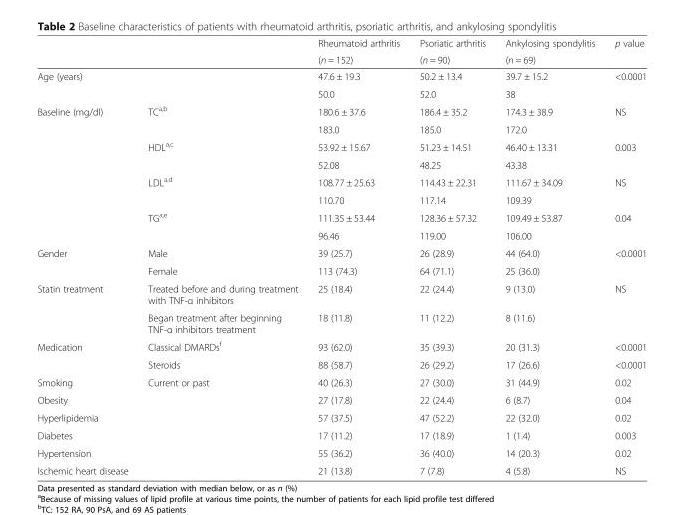table: (36, 37, 646, 476)
table column: (137, 37, 307, 476), (494, 37, 604, 476), (307, 37, 409, 476), (36, 37, 137, 476), (409, 37, 494, 476), (604, 37, 646, 476)
table column header: (36, 37, 646, 67)
table row: (36, 279, 646, 308), (36, 308, 646, 337), (36, 101, 646, 120), (36, 172, 646, 191), (36, 207, 646, 226), (36, 137, 646, 155), (36, 226, 646, 244), (36, 261, 646, 279), (36, 337, 646, 355), (36, 355, 646, 373), (36, 390, 646, 408), (36, 408, 646, 426), (36, 443, 646, 461), (36, 67, 646, 84), (36, 84, 646, 101), (36, 120, 646, 137), (36, 155, 646, 172), (36, 244, 646, 261), (36, 373, 646, 390), (36, 426, 646, 443), (36, 51, 646, 67), (36, 191, 646, 207), (36, 461, 646, 476), (36, 37, 646, 51)
table spanning cell: (36, 101, 137, 244), (36, 67, 307, 101), (137, 207, 307, 244), (137, 101, 307, 137), (137, 137, 307, 172), (137, 172, 307, 207), (36, 279, 137, 337), (36, 337, 137, 373), (36, 244, 137, 279), (494, 37, 604, 67), (307, 37, 409, 67), (409, 37, 494, 67), (604, 279, 646, 337), (604, 207, 646, 244), (604, 101, 646, 137), (604, 137, 646, 172), (604, 172, 646, 207), (604, 244, 646, 279), (604, 67, 646, 101), (604, 37, 646, 67)
